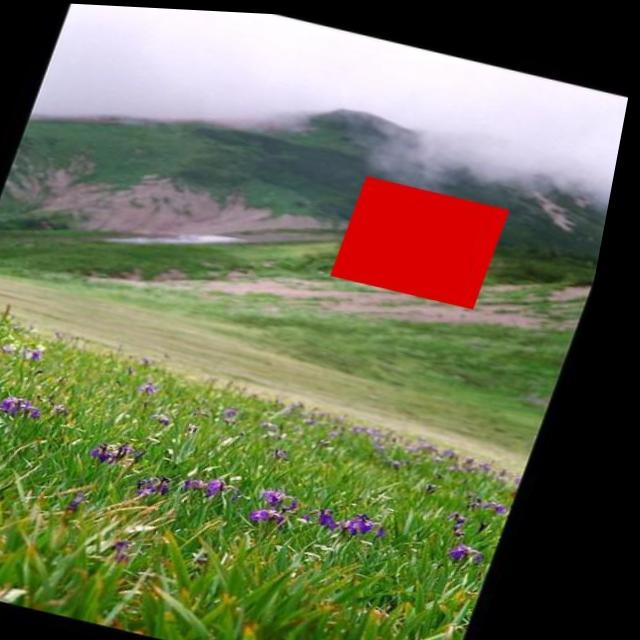RedSquare: (323, 162, 531, 317)
